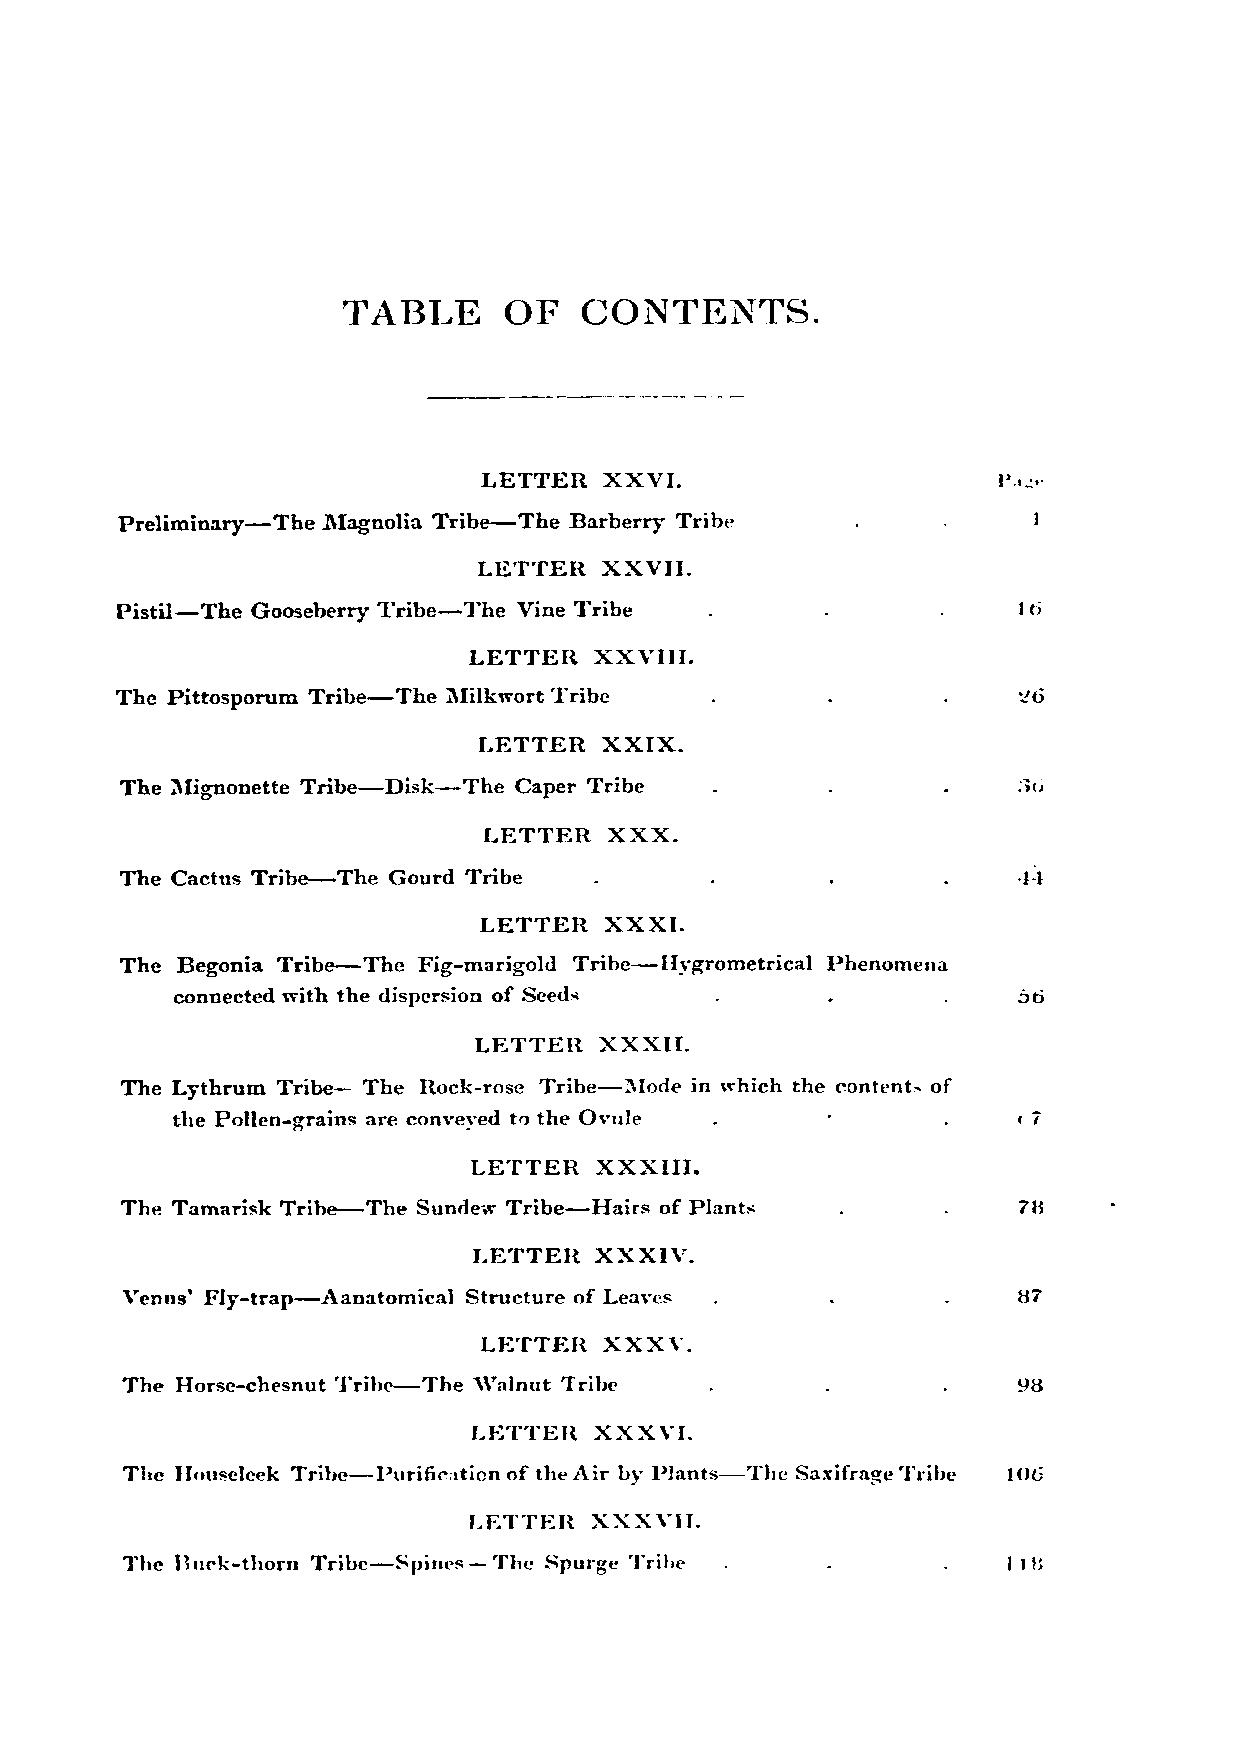TOC_chapter: (117, 954, 950, 1007), (117, 1078, 955, 1129), (119, 1464, 961, 1490), (115, 509, 739, 535), (113, 599, 692, 625), (119, 1194, 762, 1219), (122, 1374, 694, 1398), (119, 1550, 687, 1574), (121, 1286, 695, 1308), (115, 774, 651, 798), (113, 684, 613, 709), (115, 866, 527, 891), (464, 1510, 701, 1533), (472, 731, 686, 756), (466, 1155, 702, 1177), (464, 646, 696, 667), (479, 1333, 692, 1355), (470, 1245, 694, 1267), (479, 823, 682, 845), (468, 1423, 694, 1443), (476, 914, 686, 935), (471, 1033, 690, 1053), (479, 470, 683, 491), (472, 560, 694, 578)
TOC_pagenumber: (1004, 1546, 1045, 1576), (1005, 1463, 1043, 1486), (1011, 599, 1045, 623), (1015, 1280, 1043, 1308), (1019, 981, 1045, 1011), (1013, 866, 1047, 888), (1013, 1104, 1044, 1129), (1013, 772, 1045, 794), (1020, 1192, 1045, 1219), (1015, 684, 1048, 705), (1019, 1370, 1041, 1398), (1021, 506, 1048, 527)
chapter: (337, 294, 821, 327)
